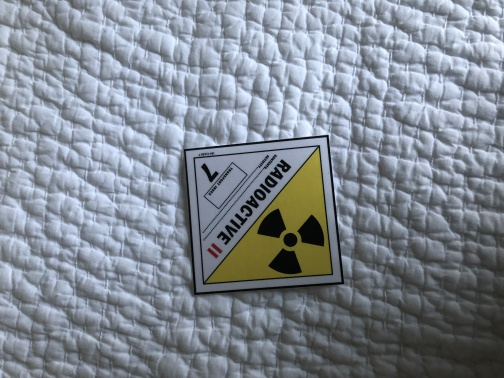Radioactive: (185, 137, 345, 293)
